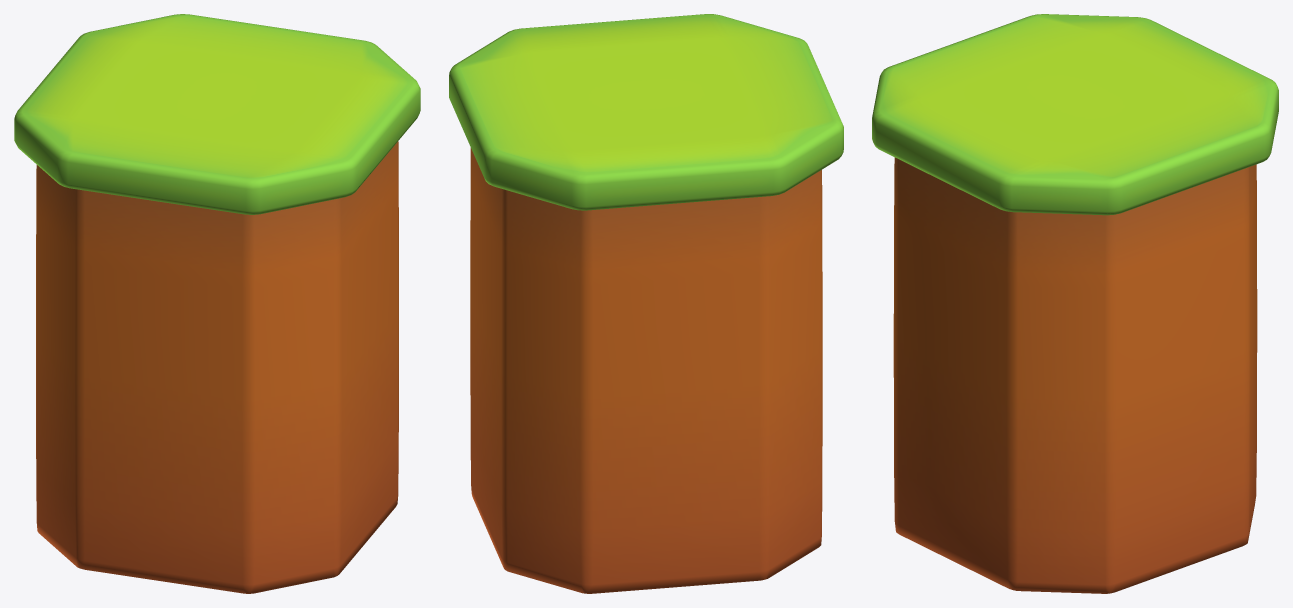
The model's file is PLatform.fbx.
3 views of the same model, side by side, from view 1: azimuth 30°, elevation 25°; view 2: azimuth 150°, elevation 25°; view 3: azimuth 270°, elevation 25° (orthographic).
Visible parts, largest first — view 1: Cube.899, Cube.012; view 2: Cube.899, Cube.012; view 3: Cube.899, Cube.012.
Part boxes in pixels (left/top/right/bottom): Cube.899: left=36, top=141, right=398, bottom=593; Cube.012: left=14, top=14, right=420, bottom=214; Cube.899: left=470, top=147, right=822, bottom=593; Cube.012: left=449, top=14, right=843, bottom=210; Cube.899: left=893, top=157, right=1257, bottom=593; Cube.012: left=872, top=14, right=1278, bottom=215.
Size of the model in its own units: 5.77 by 6.61 by 5.77.
